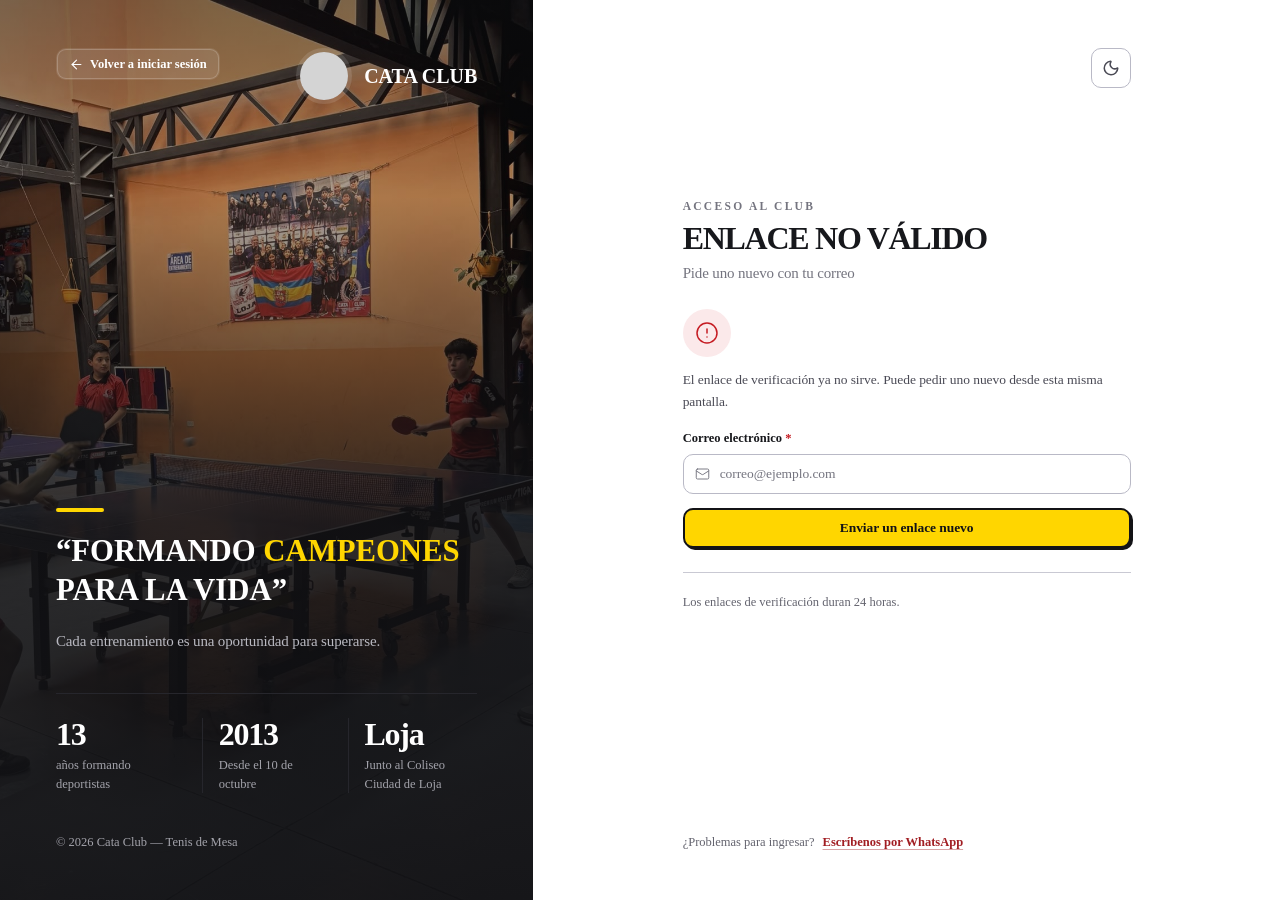
Test: VerificarCorreoPage › shows the backend's constant message verbatim after a resend
Type "quien@example.com" into the field labelled "Correo electrónico *" at (907, 474), box [683,454,1131,494]
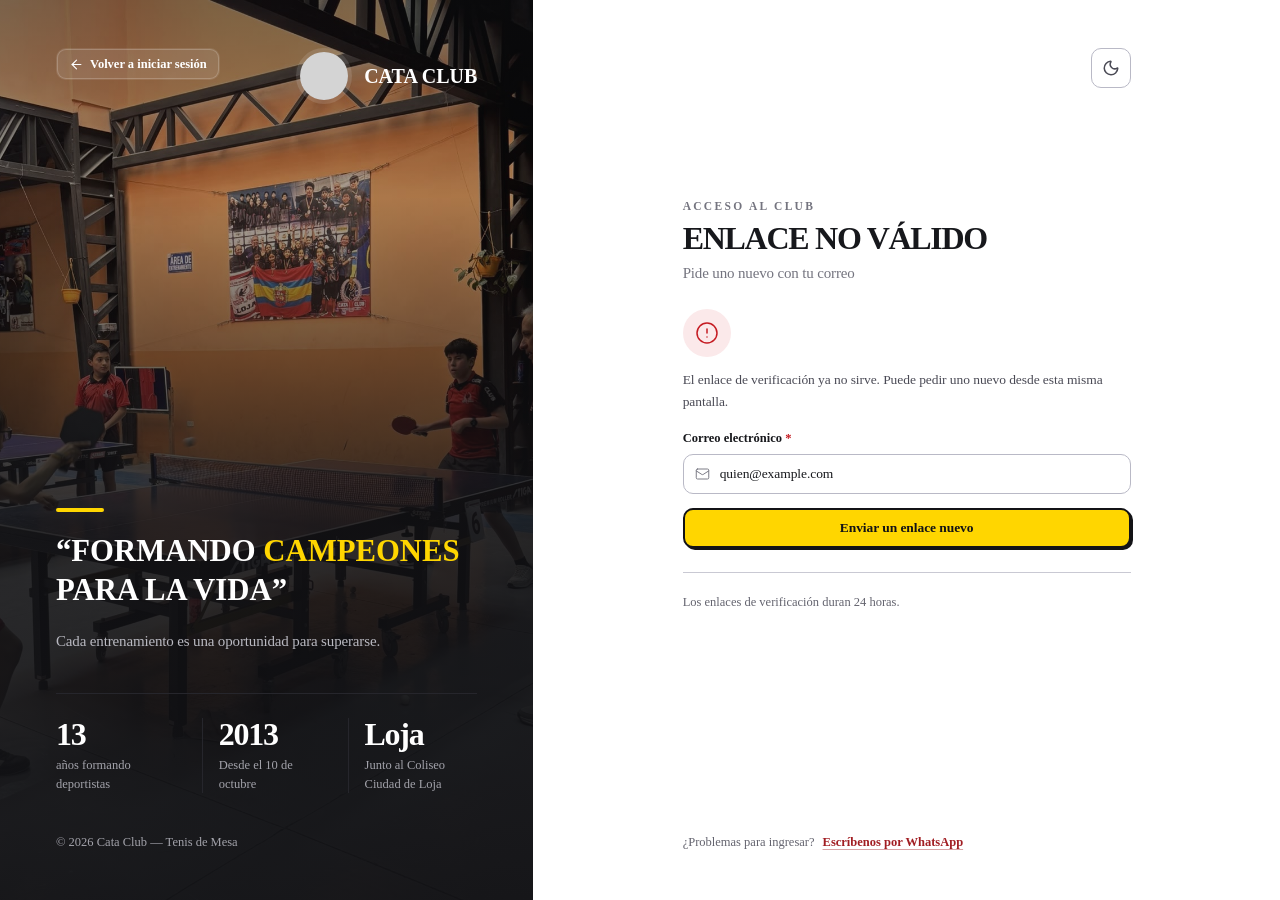
Click the button "Enviar un enlace nuevo" at (907, 528), box [683,508,1131,548]
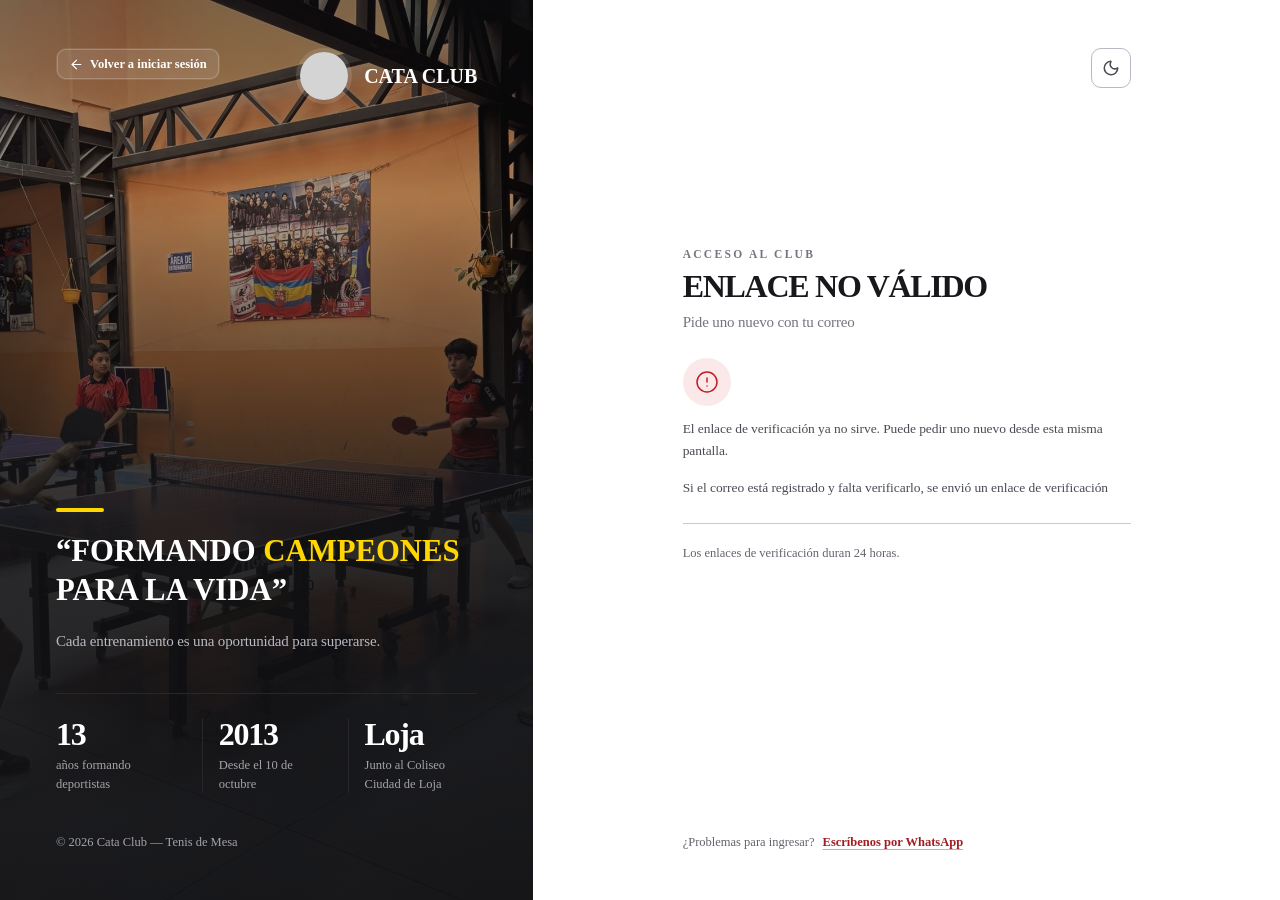
Expected: the text "Si el correo está registrado y falta verificarlo, se envió un enlace de verificación" is shown, [683,480,1108,495]
